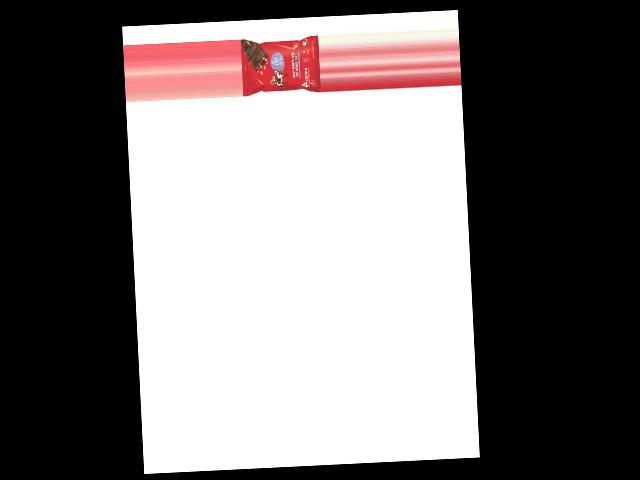chocolate: (240, 34, 321, 94)
